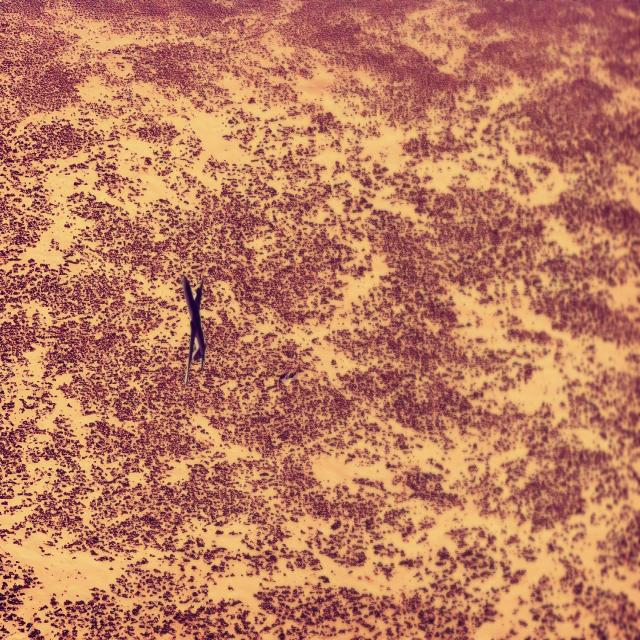airplane: (182, 274, 206, 385)
